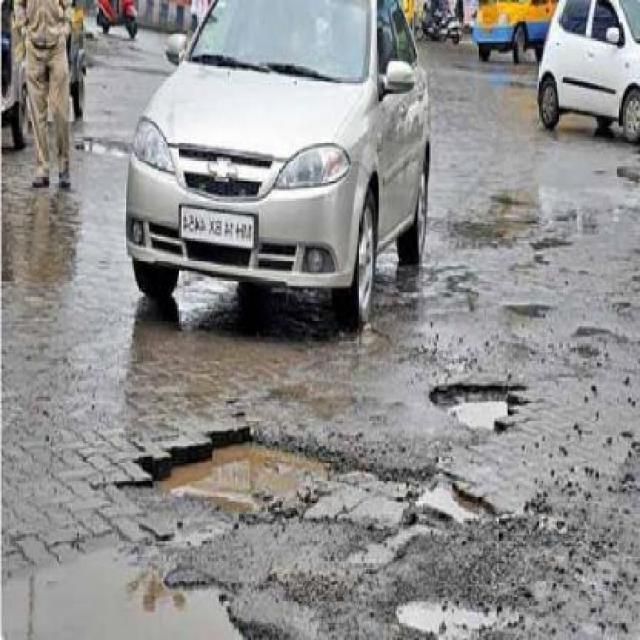pothole: (120, 419, 499, 543), (0, 544, 313, 638), (428, 374, 531, 438), (396, 597, 509, 636)
